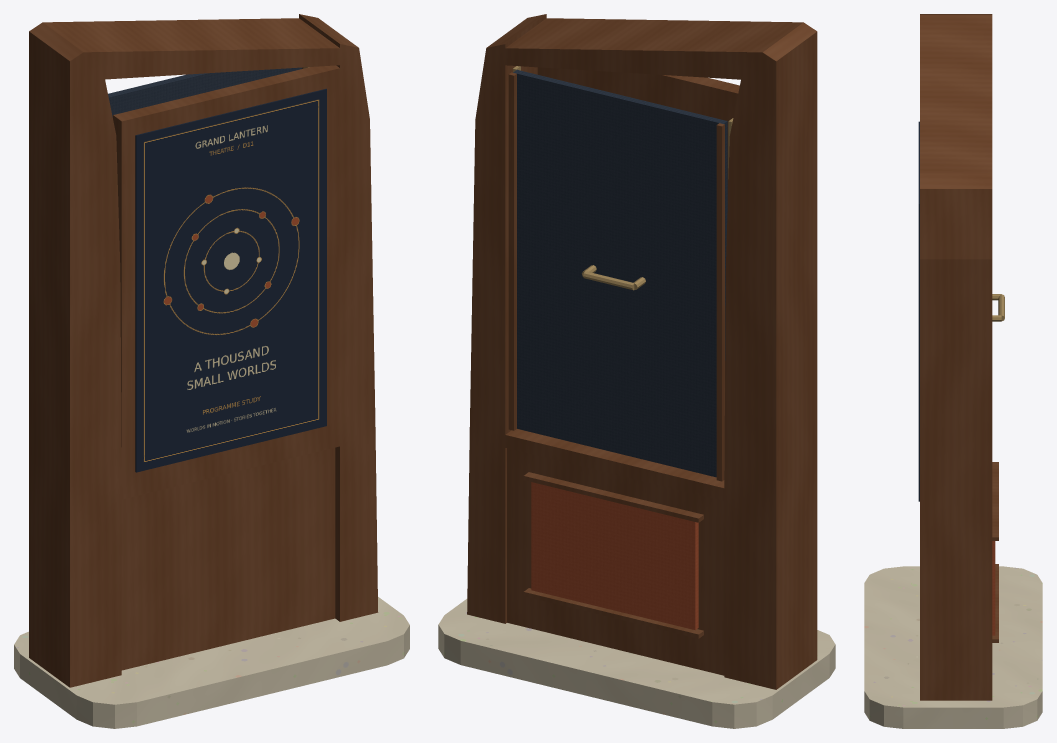
File: AST-CUL-001.glb
3 views of the same model, side by side, from view 1: azimuth 30°, elevation 25°; view 2: azimuth 150°, elevation 25°; view 3: azimuth 270°, elevation 25° (orthographic). The views are drawn at different scales.
Parts seen in each view (by area): view 1: AST-CUL-001__AST-CUL-001__warm_walnut, AST-CUL-001__AST-CUL-001__programme_original, AST-CUL-001__AST-CUL-001__warm_stone, AST-CUL-001__REAR_SERVICE_PANEL__auditorium_navy_fibre; view 2: AST-CUL-001__AST-CUL-001__warm_walnut, AST-CUL-001__REAR_SERVICE_PANEL__auditorium_navy_fibre, AST-CUL-001__AST-CUL-001__warm_stone, AST-CUL-001__AST-CUL-001__auditorium_amber_velvet, AST-CUL-001__REAR_SERVICE_PANEL__warm_walnut; view 3: AST-CUL-001__AST-CUL-001__warm_walnut, AST-CUL-001__AST-CUL-001__warm_stone, AST-CUL-001__AST-CUL-001__programme_original, AST-CUL-001__AST-CUL-001__auditorium_amber_velvet.
Part boxes in pixels (bbox=[...]): AST-CUL-001__AST-CUL-001__warm_walnut: bbox=[29, 14, 378, 687]; AST-CUL-001__AST-CUL-001__programme_original: bbox=[135, 88, 326, 472]; AST-CUL-001__AST-CUL-001__warm_stone: bbox=[14, 597, 409, 728]; AST-CUL-001__REAR_SERVICE_PANEL__auditorium_navy_fibre: bbox=[108, 67, 302, 117]; AST-CUL-001__AST-CUL-001__warm_walnut: bbox=[467, 14, 817, 689]; AST-CUL-001__REAR_SERVICE_PANEL__auditorium_navy_fibre: bbox=[513, 69, 727, 477]; AST-CUL-001__AST-CUL-001__warm_stone: bbox=[438, 599, 835, 728]; AST-CUL-001__AST-CUL-001__auditorium_amber_velvet: bbox=[531, 482, 698, 630]; AST-CUL-001__REAR_SERVICE_PANEL__warm_walnut: bbox=[508, 72, 724, 481]; AST-CUL-001__AST-CUL-001__warm_walnut: bbox=[920, 14, 998, 700]; AST-CUL-001__AST-CUL-001__warm_stone: bbox=[864, 566, 1042, 728]; AST-CUL-001__AST-CUL-001__programme_original: bbox=[918, 121, 919, 501]; AST-CUL-001__AST-CUL-001__auditorium_amber_velvet: bbox=[992, 541, 995, 635].
Size of the model in its own units: 1.2 by 2.3 by 0.64.
Materials: 6 (6 with a texture image).
